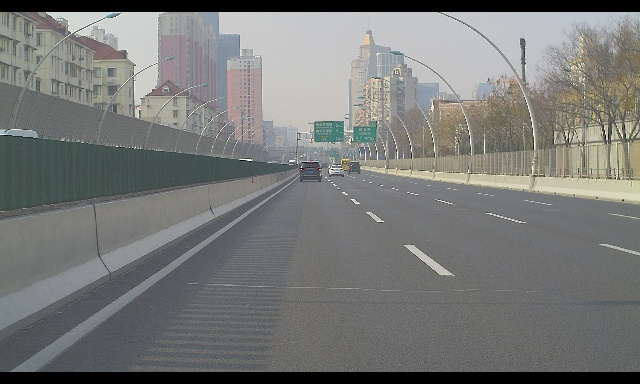car: (0, 129, 39, 175), (299, 161, 323, 182), (329, 165, 344, 177), (348, 161, 361, 174), (341, 159, 352, 171), (288, 160, 296, 170)
